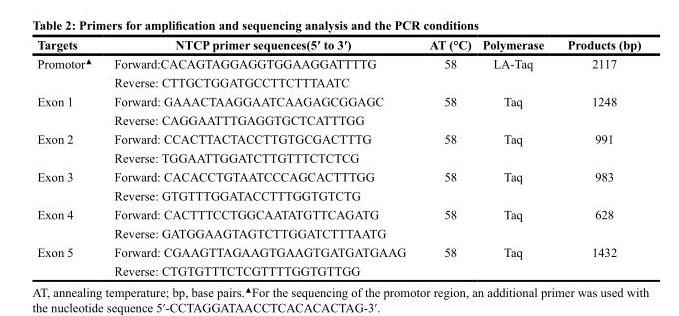table: (36, 37, 640, 277)
table column: (102, 37, 417, 277), (554, 37, 640, 277), (476, 37, 554, 277), (36, 37, 102, 277), (417, 37, 476, 277)
table column header: (36, 37, 640, 53)
table row: (36, 53, 640, 72), (36, 72, 640, 91), (36, 91, 640, 110), (36, 110, 640, 129), (36, 129, 640, 148), (36, 166, 640, 185), (36, 185, 640, 204), (36, 204, 640, 223), (36, 223, 640, 242), (36, 242, 640, 261), (36, 148, 640, 166), (36, 37, 640, 53), (36, 261, 640, 277)
table spanning cell: (36, 53, 102, 91), (36, 91, 102, 129), (36, 166, 102, 204), (36, 204, 102, 242), (36, 129, 102, 166), (36, 242, 102, 277)
